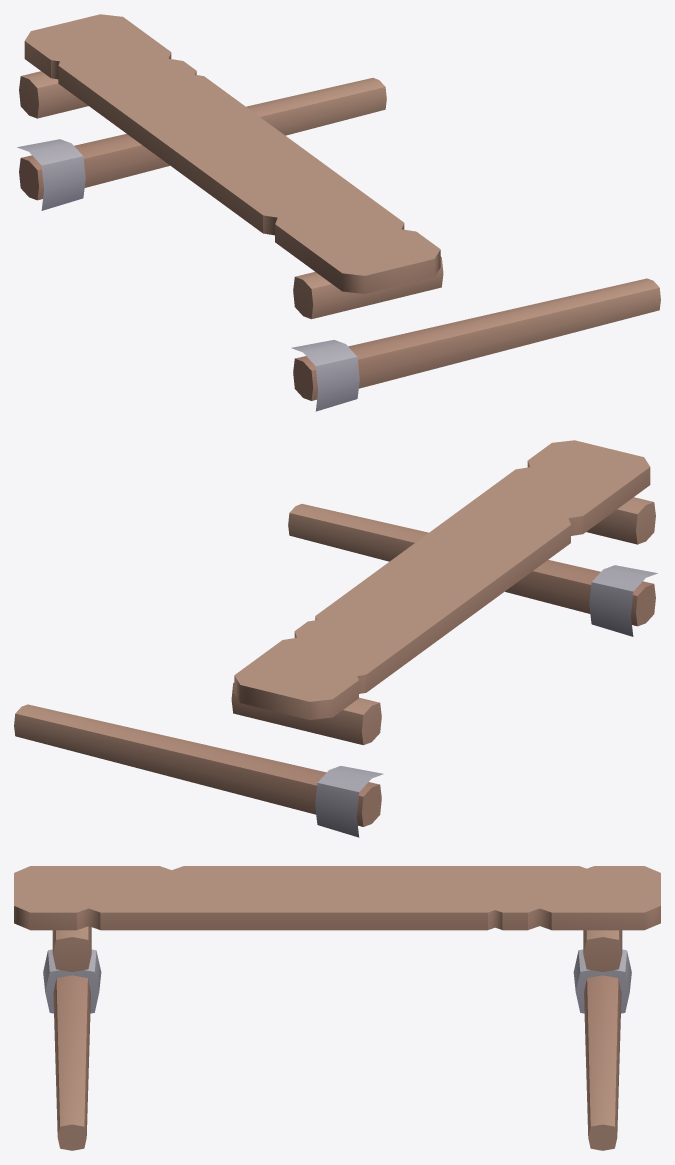
The model's file is cabin-f.glb.
The picture shows the model from 3 angles, top to bottom: view 1: azimuth 30°, elevation 25°; view 2: azimuth 150°, elevation 25°; view 3: azimuth 270°, elevation 25°; orthographic projection. The views are drawn at different scales.
Parts seen in each view (by area): view 1: cabin-f; view 2: cabin-f; view 3: cabin-f.
Part boxes in pixels (x1,y1,x2,y2): cabin-f: (17, 14, 660, 411); cabin-f: (14, 440, 657, 837); cabin-f: (14, 866, 660, 1150).
Bounding box in the file's own units: 1.21 × 0.48 × 2.
